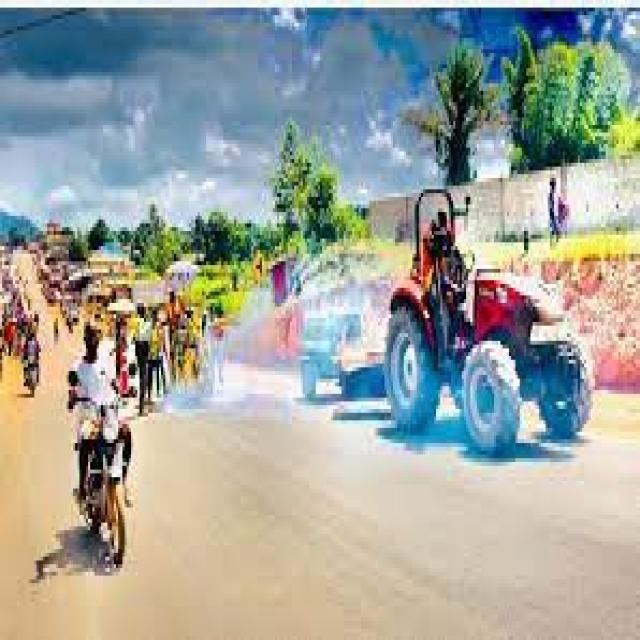motorcycle: (82, 390, 122, 568)
person: (69, 326, 110, 500), (445, 246, 470, 322), (135, 307, 150, 417), (24, 333, 39, 398), (550, 178, 556, 242), (170, 292, 176, 341)
tractor: (384, 242, 588, 454)
